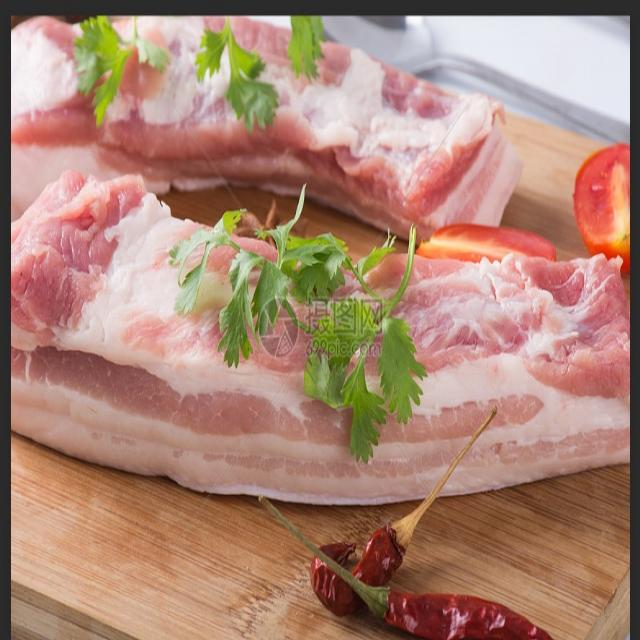pork: (7, 162, 640, 520)
